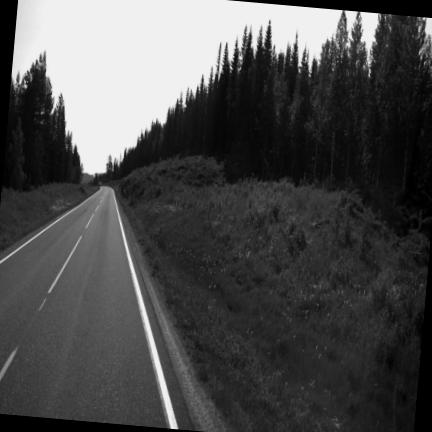Road: (0, 188, 192, 428)
